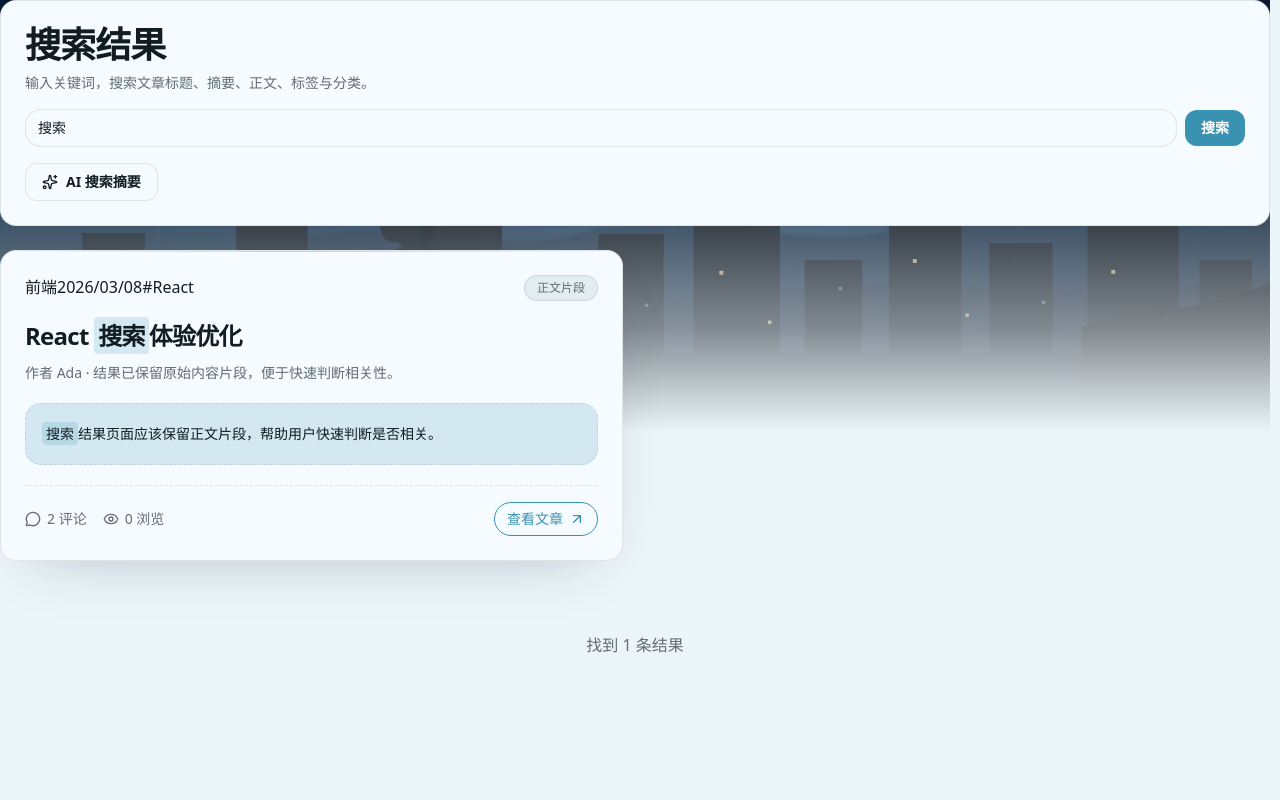
search page requests AI summary only after the explicit button is clicked
This screenshot has width=1280, height=800.
Click the button "AI 搜索摘要" at (91, 182), box top-left (25, 163), bottom-right (158, 201)
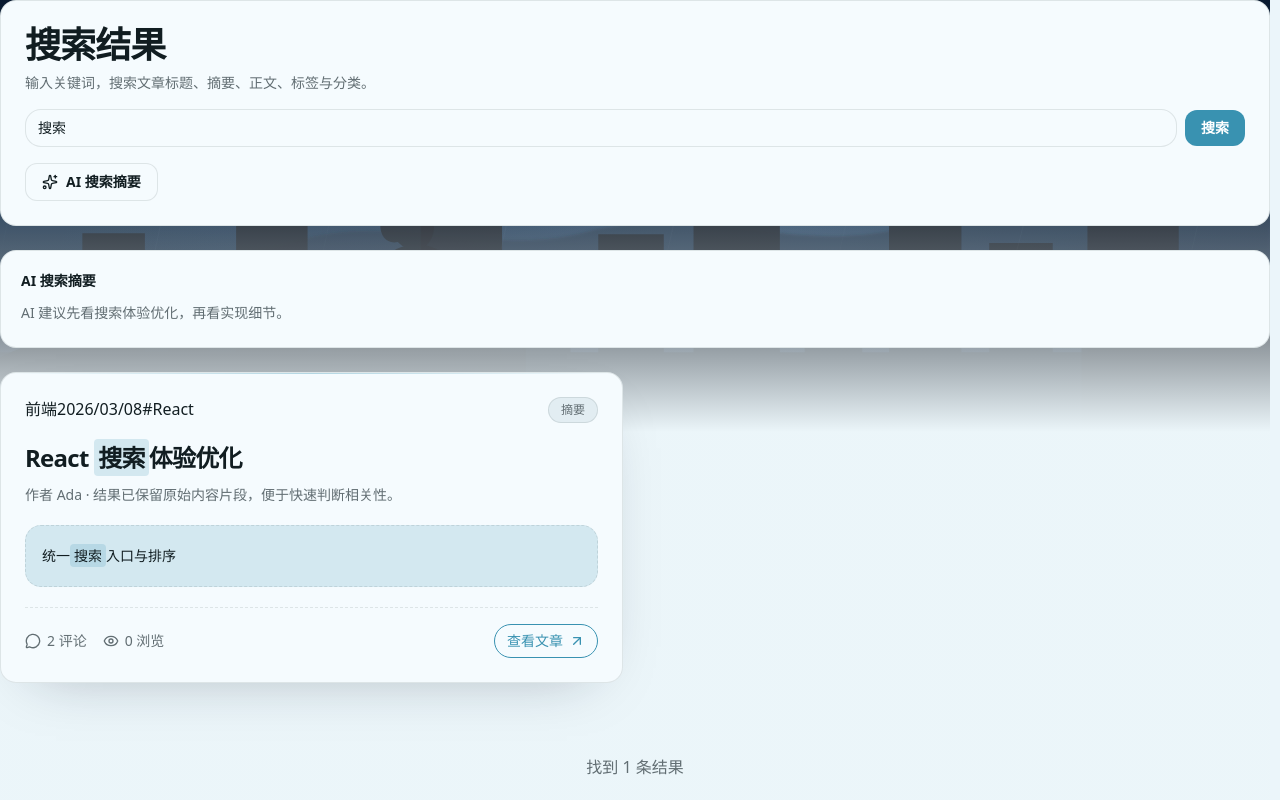
Now the text "AI 建议先看搜索体验优化，再看实现细节。" is shown, box top-left (21, 303), bottom-right (290, 322)
